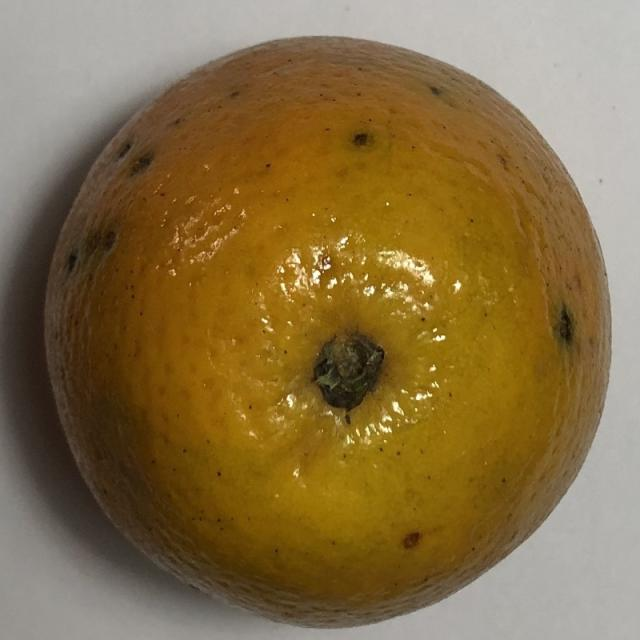black spot: (16, 22, 626, 624)
